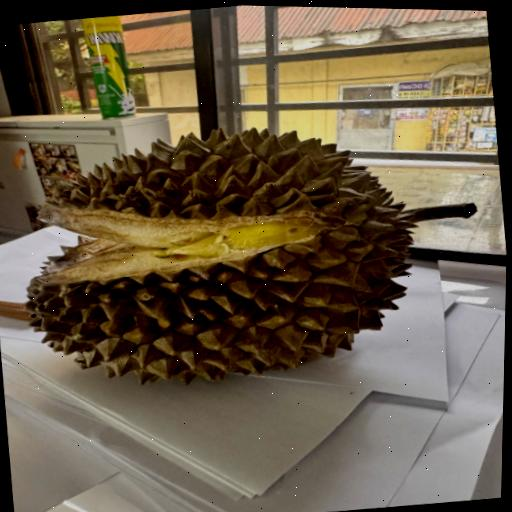rot: (0, 87, 510, 420)
